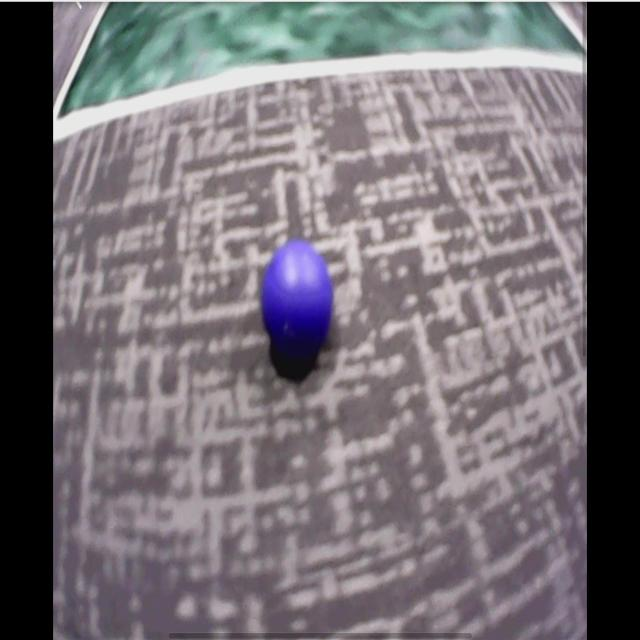ball: (263, 241, 333, 351)
